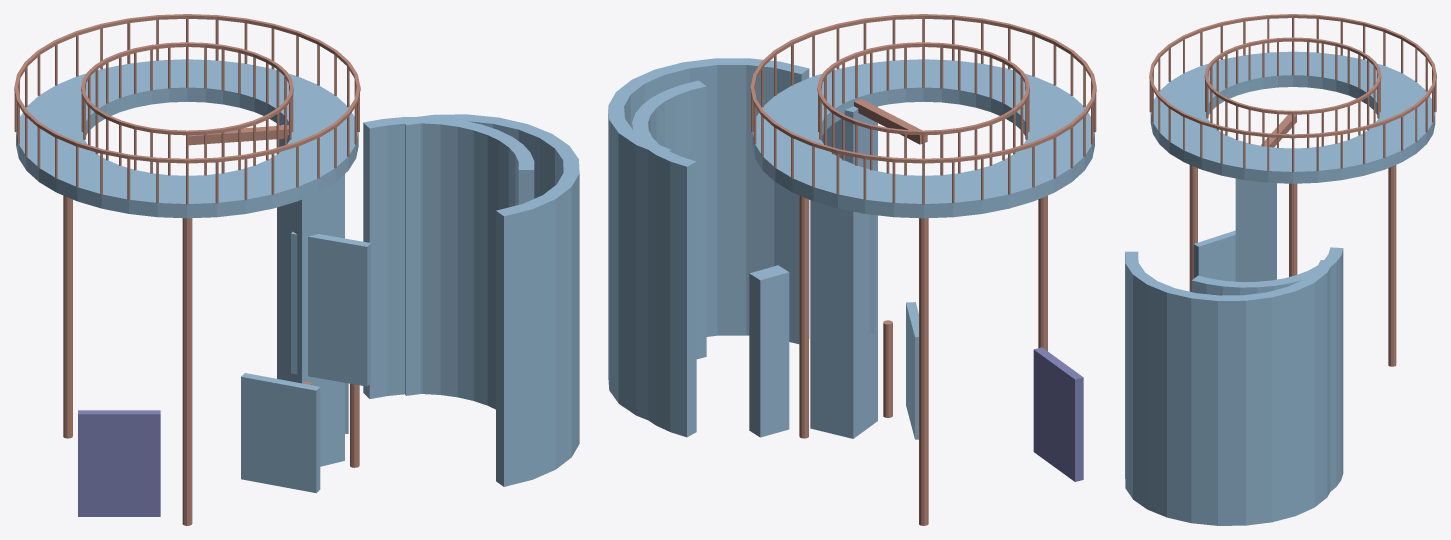
File: folie_tag_111.glb
3 views of the same model, side by side, from view 1: azimuth 30°, elevation 25°; view 2: azimuth 150°, elevation 25°; view 3: azimuth 270°, elevation 25° (orthographic). The views are drawn at different scales.
Visible parts, largest first — view 1: folie_tag_111_02_curve, folie_tag_111_01_curve, folie_tag_111_00_ring, folie_tag_111_line, folie_tag_111_03_panel, folie_tag_111_05_panel, folie_tag_111_core, folie_tag_111_06_panel; view 2: folie_tag_111_01_curve, folie_tag_111_00_ring, folie_tag_111_line, folie_tag_111_02_curve, folie_tag_111_core, folie_tag_111_07_fin, folie_tag_111_05_panel, folie_tag_111_06_panel, folie_tag_111_03_panel; view 3: folie_tag_111_01_curve, folie_tag_111_00_ring, folie_tag_111_line, folie_tag_111_02_curve, folie_tag_111_core, folie_tag_111_03_panel.
Part boxes in pixels (x1=…): folie_tag_111_02_curve: x1=363, y1=116, x2=534, y2=409; folie_tag_111_01_curve: x1=402, y1=114, x2=579, y2=486; folie_tag_111_00_ring: x1=16, y1=59, x2=358, y2=218; folie_tag_111_line: x1=14, y1=14, x2=360, y2=525; folie_tag_111_03_panel: x1=291, y1=232, x2=370, y2=386; folie_tag_111_05_panel: x1=78, y1=410, x2=160, y2=516; folie_tag_111_core: x1=277, y1=124, x2=344, y2=466; folie_tag_111_06_panel: x1=241, y1=373, x2=320, y2=493; folie_tag_111_01_curve: x1=608, y1=58, x2=809, y2=419; folie_tag_111_00_ring: x1=752, y1=59, x2=1094, y2=218; folie_tag_111_line: x1=750, y1=14, x2=1096, y2=525; folie_tag_111_02_curve: x1=632, y1=80, x2=706, y2=437; folie_tag_111_core: x1=810, y1=106, x2=877, y2=438; folie_tag_111_07_fin: x1=749, y1=265, x2=789, y2=437; folie_tag_111_05_panel: x1=1033, y1=347, x2=1083, y2=481; folie_tag_111_06_panel: x1=906, y1=302, x2=918, y2=439; folie_tag_111_03_panel: x1=869, y1=214, x2=874, y2=333; folie_tag_111_01_curve: x1=1125, y1=251, x2=1333, y2=525; folie_tag_111_00_ring: x1=1150, y1=51, x2=1435, y2=183; folie_tag_111_line: x1=1149, y1=14, x2=1436, y2=366; folie_tag_111_02_curve: x1=1191, y1=247, x2=1343, y2=491; folie_tag_111_core: x1=1235, y1=178, x2=1276, y2=281; folie_tag_111_03_panel: x1=1193, y1=230, x2=1235, y2=281.
Bounding box in the file's own units: 12.47 × 9.27 × 8.32.
